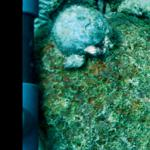dead: (23, 1, 147, 149)
